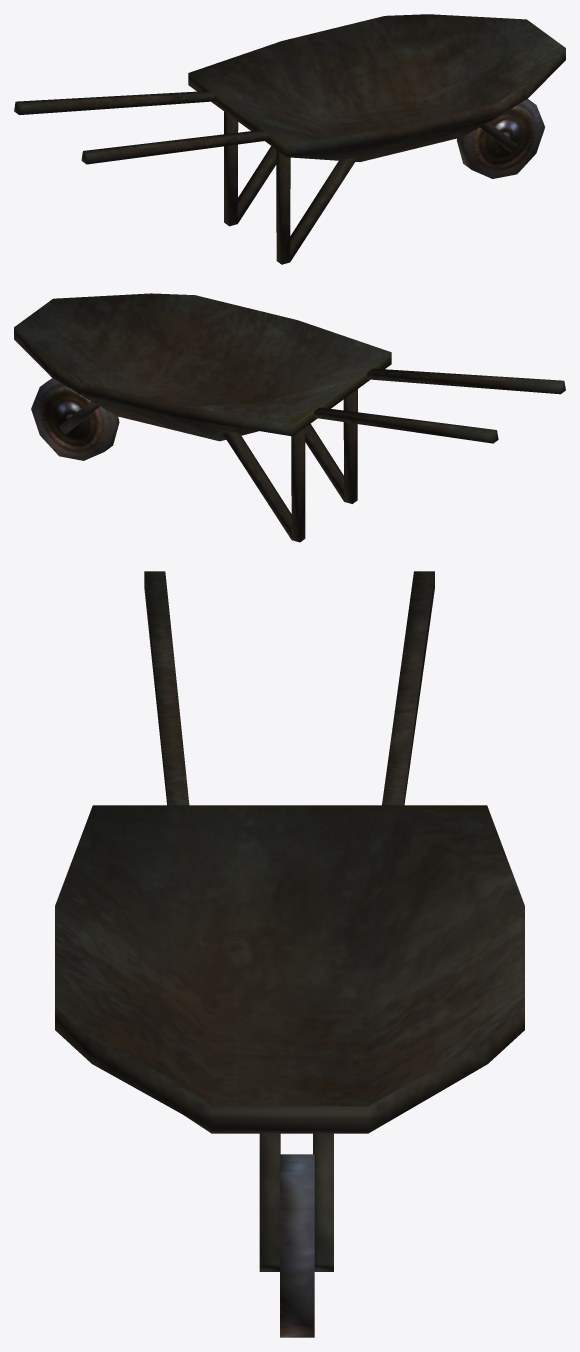
The model's file is pushcart.fbx.
3 views of the same model, one above another, from view 1: azimuth 30°, elevation 25°; view 2: azimuth 150°, elevation 25°; view 3: azimuth 270°, elevation 25° (orthographic). The views are drawn at different scales.
Parts seen in each view (by area): view 1: pushcart; view 2: pushcart; view 3: pushcart.
Part boxes in pixels (x1=…): pushcart: x1=14, y1=14, x2=565, y2=264; pushcart: x1=14, y1=293, x2=565, y2=542; pushcart: x1=55, y1=571, x2=524, y2=1337.
Size of the model in its own units: 2 by 0.6293 by 0.8186.
